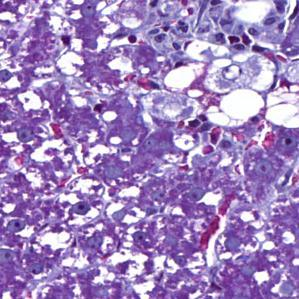ballooning: (204, 88, 265, 130), (259, 81, 295, 132)
